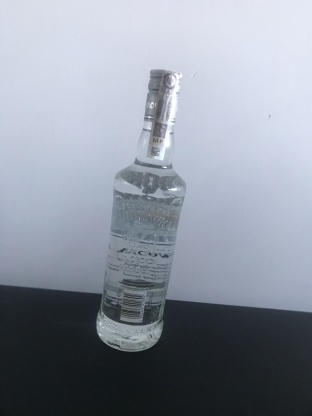nakretka: (142, 65, 184, 128)
